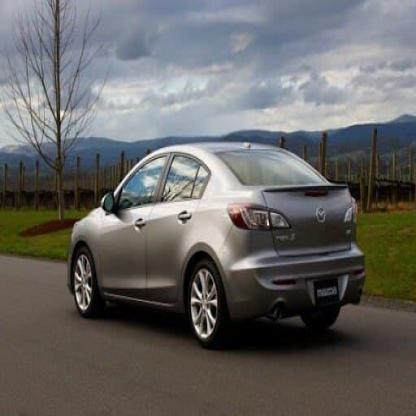Car: (68, 143, 365, 349)
